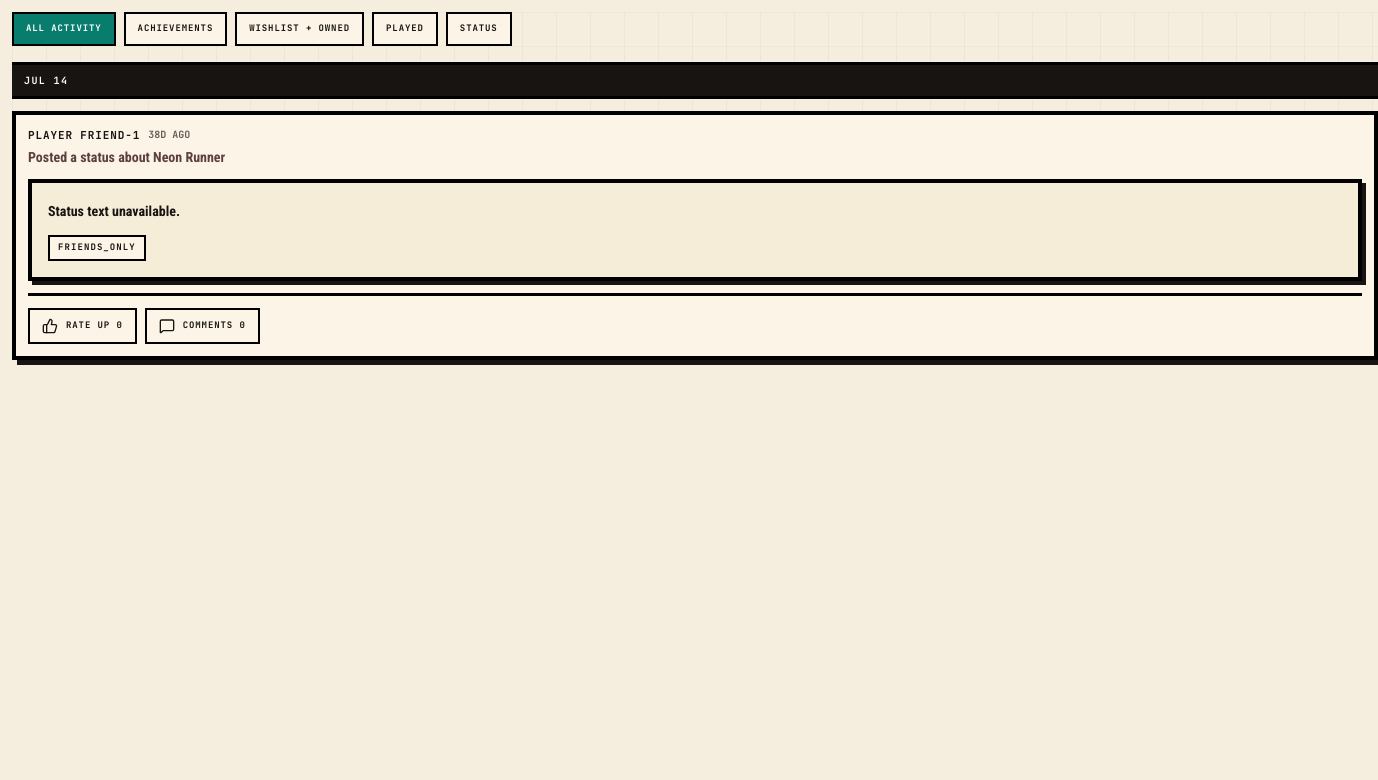
ActivityFeed › loads older comments with a stable cursor and prepends them chronologically
What coordinates should you click on to do the following:
click the button "Comments 0"
I would click on:
 (202, 326)
Its box is [145,308,260,344].
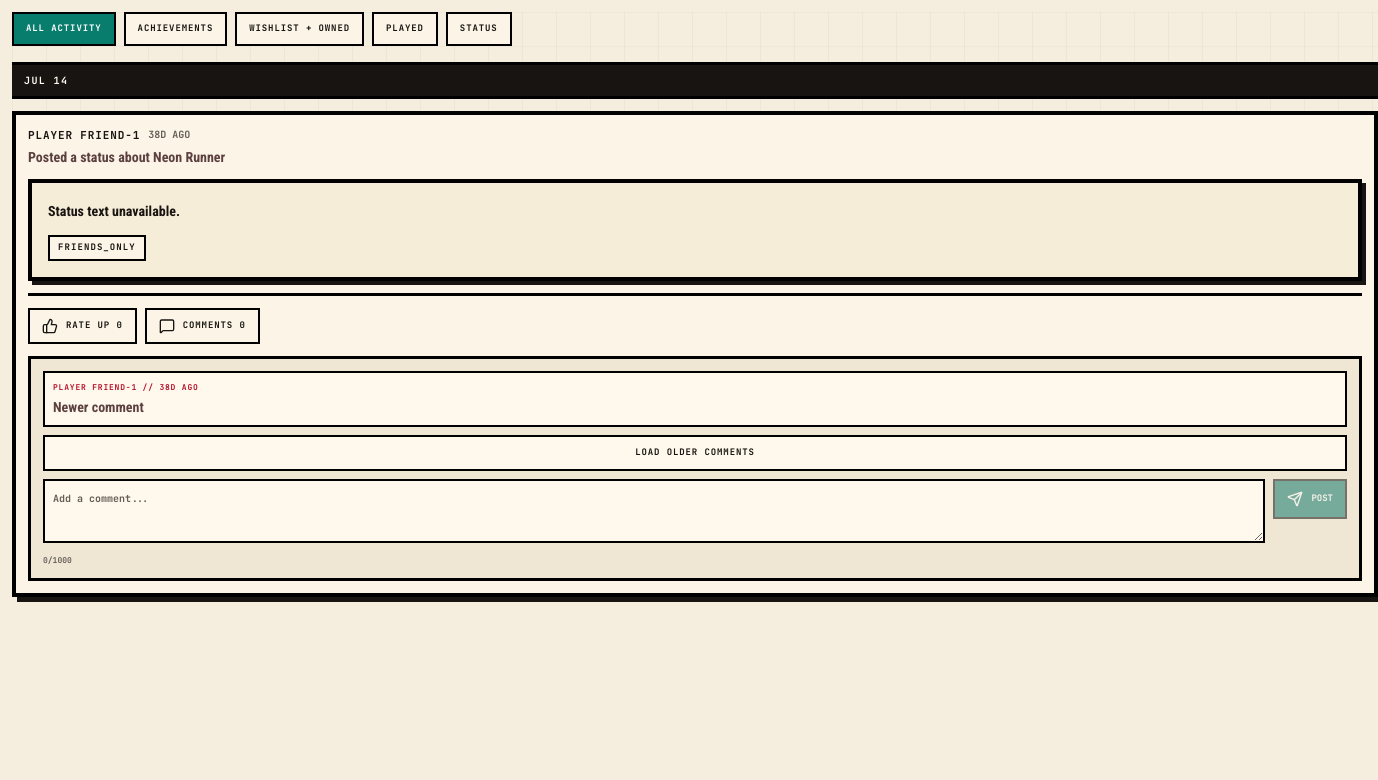
Now the text "Newer comment" is shown, box [53,398,144,414]
What coordinates should you click on to do the following:
click the button "Load older comments"
I would click on:
 (695, 452)
Its box is [43,434,1347,470].
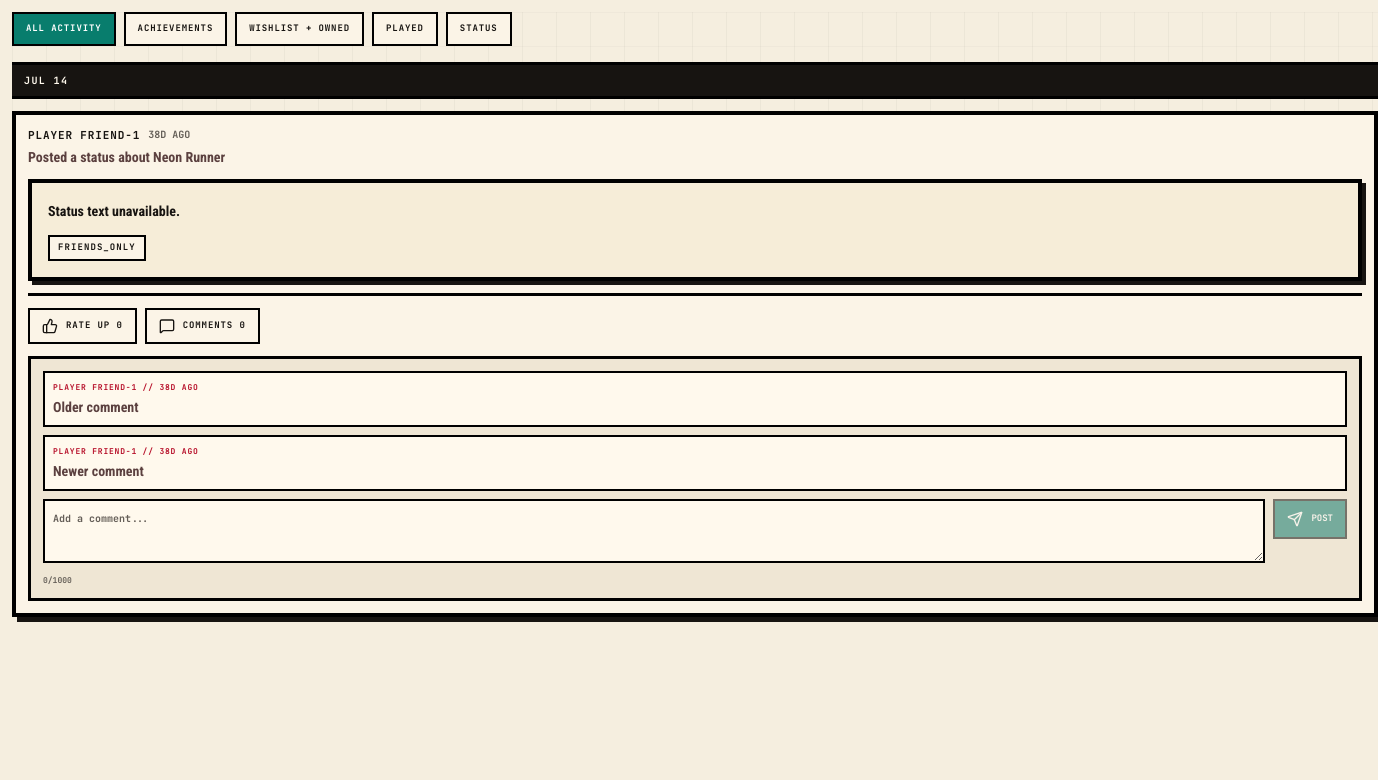
Now the text "Older comment" is shown, box [53,398,138,414]
Now the button "Load older comments" is gone
